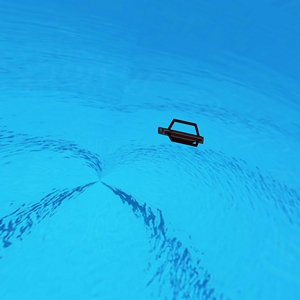submarine: (157, 119, 208, 149)
